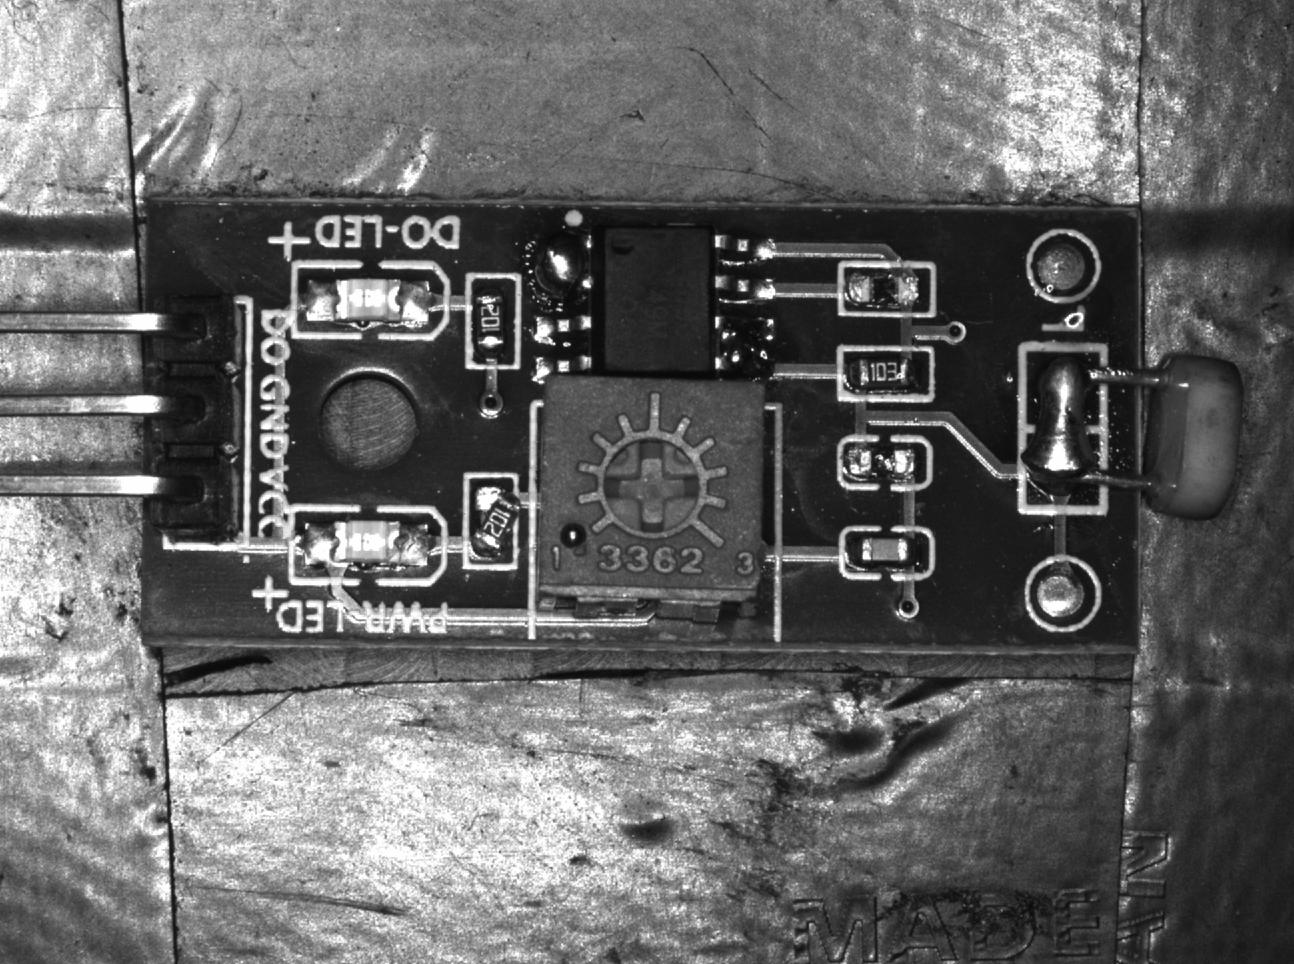bridge: (1024, 344, 1099, 511), (708, 308, 785, 380), (533, 234, 596, 310)
lifted: (469, 474, 520, 570)
miss: (839, 259, 933, 319), (837, 439, 929, 488)
ok: (467, 277, 521, 371), (839, 526, 934, 578), (840, 346, 929, 399)
